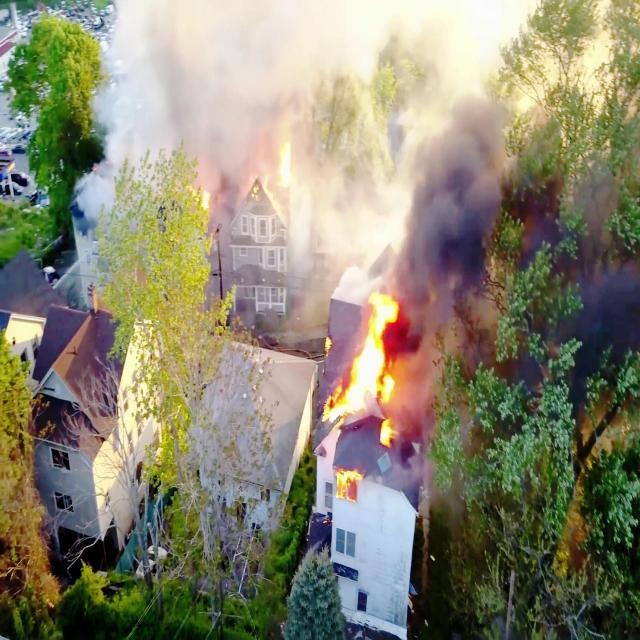Fire: (322, 292, 398, 420)
Smoke: (415, 97, 493, 286)
